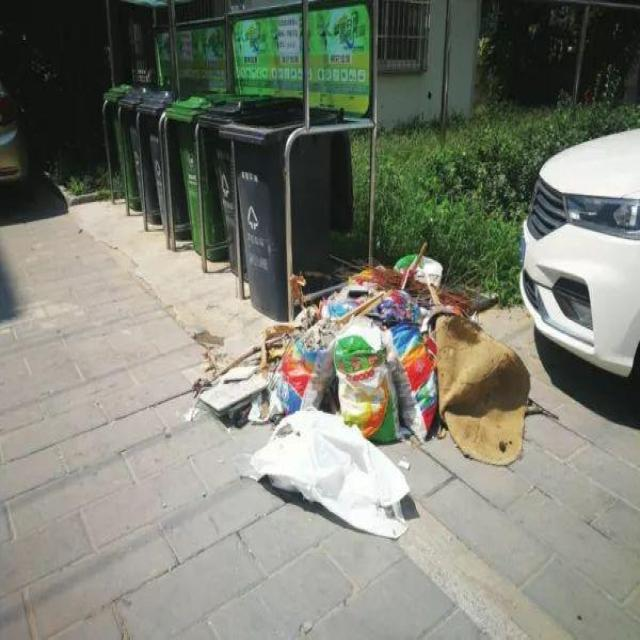garbage: (190, 238, 532, 536)
garbage_bin: (219, 105, 352, 320), (164, 91, 254, 259)
